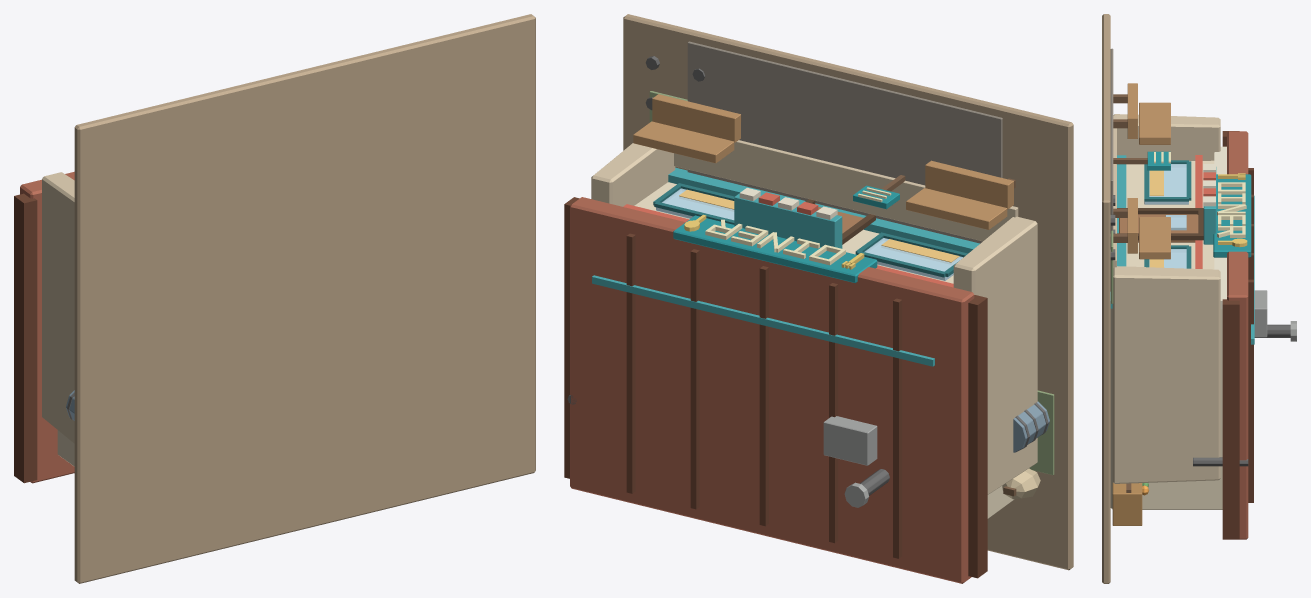
The model's file is canteen.fbx.
The picture shows the model from 3 angles, left to right: view 1: azimuth 30°, elevation 25°; view 2: azimuth 150°, elevation 25°; view 3: azimuth 270°, elevation 25°; orthographic projection. The views are drawn at different scales.
Visible parts, largest first — view 1: GroundBase, MainBuilding_RoundedCorner_01, Roof_LeftOverhangTrim, Roof; view 2: Roof, GroundBase, GroundPatch_FrontGravel, MainBuilding_RoundedCorner_01, Entrance_SidewalkStrip, Roof_LeftOverhangTrim, MainBuilding_RoundedCorner_02, SignPanel, Roof_TealTopStripe, Awning, MainBuilding_BaseTrim, Bench_Left (+17 smaller); view 3: MainBuilding_RoundedCorner_02, MainBuilding, GroundBase, Roof, Roof_RightOverhangTrim, MainBuilding_RoundedCorner_01, SignPanel, Bench_Left_Back, Bench_Right_Back, Roof_Rib_05, FoodCrates, WindowGlass_Front_Left (+18 smaller).
Part boxes in pixels (<box>): GroundBase: <box>74,14,535,583</box>; MainBuilding_RoundedCorner_01: <box>42,172,74,443</box>; Roof_LeftOverhangTrim: <box>14,193,37,483</box>; Roof: <box>20,171,74,483</box>; Roof: <box>570,197,974,583</box>; GroundBase: <box>623,14,1073,570</box>; GroundPatch_FrontGravel: <box>687,41,1002,243</box>; MainBuilding_RoundedCorner_01: <box>953,216,1037,494</box>; Entrance_SidewalkStrip: <box>674,140,1018,241</box>; Roof_LeftOverhangTrim: <box>968,295,987,578</box>; MainBuilding_RoundedCorner_02: <box>591,143,675,206</box>; SignPanel: <box>673,215,877,283</box>; Roof_TealTopStripe: <box>592,275,934,366</box>; Awning: <box>734,193,842,248</box>; MainBuilding_BaseTrim: <box>668,167,979,253</box>; Bench_Left: <box>925,160,1013,209</box>; MainBuilding_RoundedCorner_02: <box>1112,266,1220,483</box>; MainBuilding: <box>1110,160,1222,509</box>; GroundBase: <box>1102,14,1110,583</box>; Roof: <box>1227,131,1248,539</box>; Roof_RightOverhangTrim: <box>1222,299,1239,539</box>; MainBuilding_RoundedCorner_01: <box>1113,114,1220,160</box>; SignPanel: <box>1213,174,1251,257</box>; Bench_Left_Back: <box>1139,102,1170,144</box>; Bench_Right_Back: <box>1139,217,1170,259</box>; Roof_Rib_05: <box>1248,279,1253,502</box>; FoodCrates: <box>1112,482,1142,525</box>; WindowGlass_Front_Left: <box>1144,164,1188,204</box>.
Size of the model in its own units: 420 by 400 by 184.
